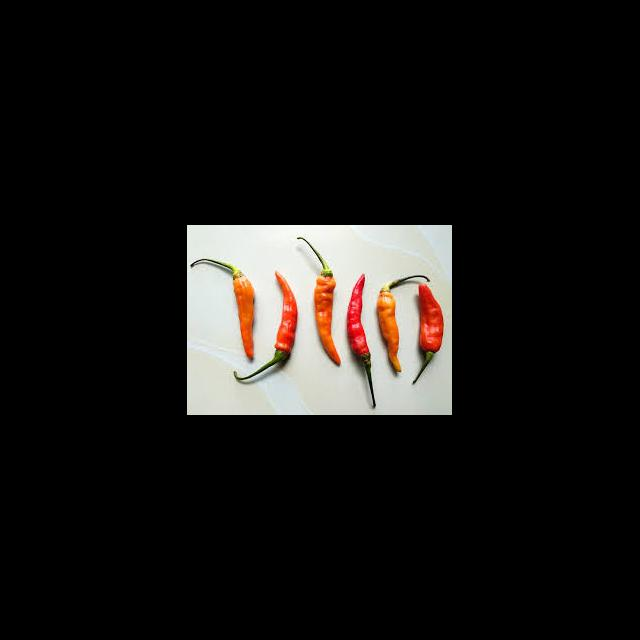chili_pepper: (314, 269, 342, 368), (416, 279, 446, 365), (344, 274, 372, 366), (376, 281, 401, 375), (234, 267, 256, 361), (275, 273, 295, 359)
